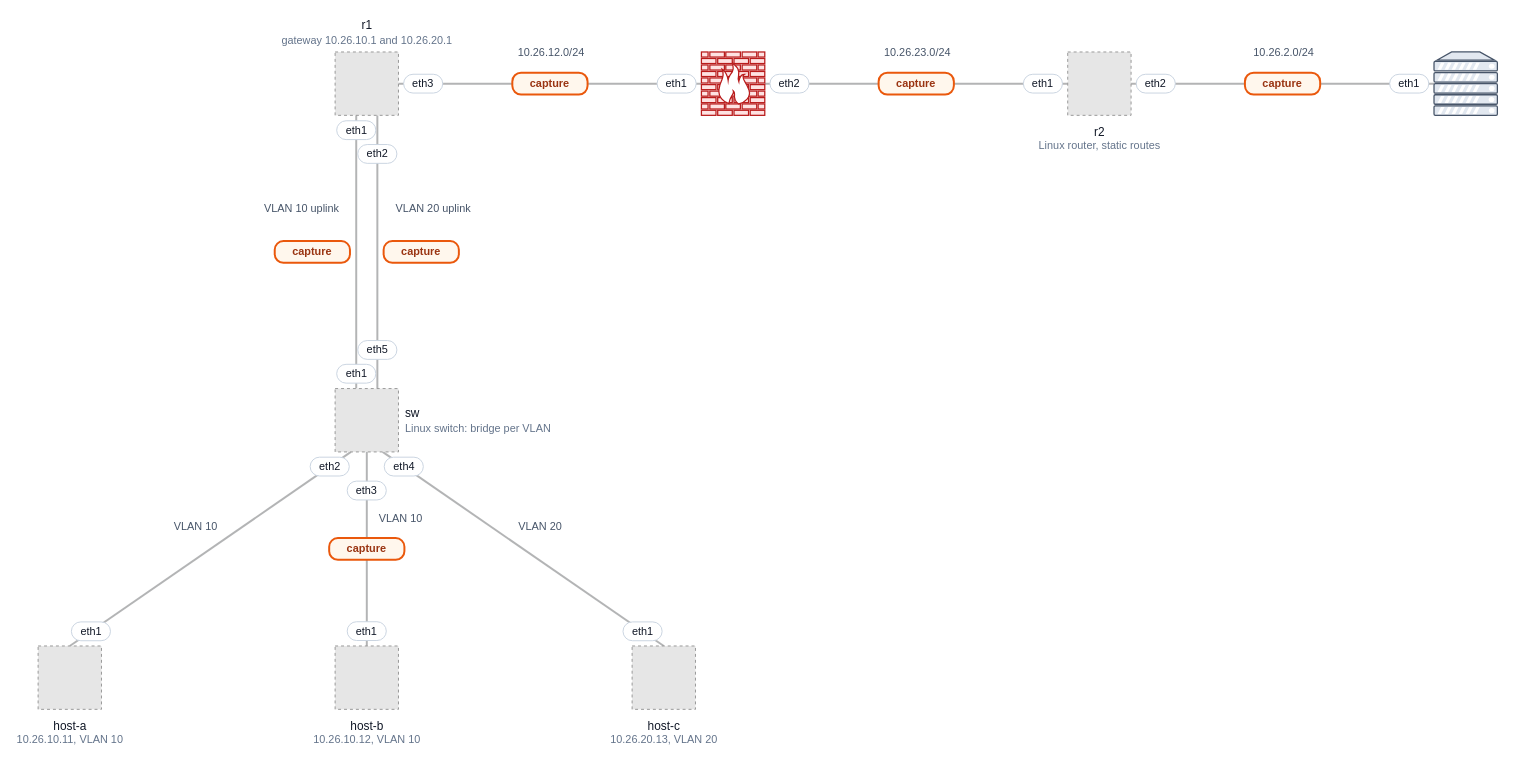
This 1531x764 diagram has some shape labels left out. Grey dashed boxes stand in for pictures. Here are the shapes that lost their labels. From the top down, the centre of each, then its label:
At (732,83): "fw Linux nftables, routes".
At (1465,83): "h2 10.26.2.20, web :80".
